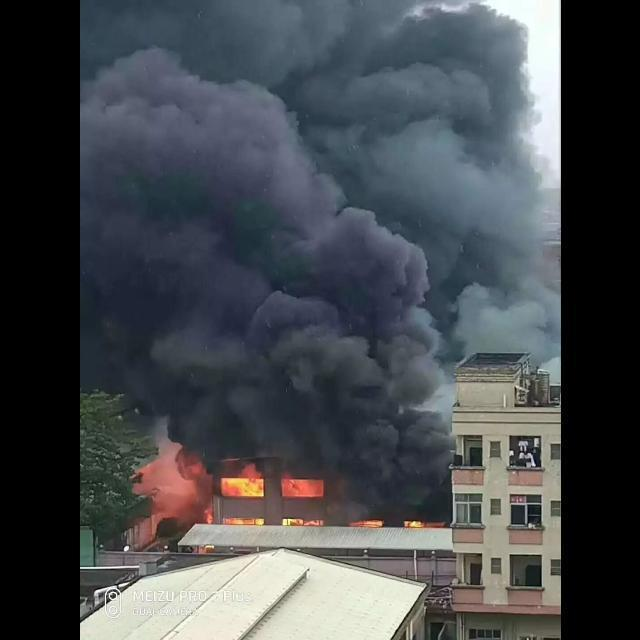Fire: (280, 478, 324, 498), (218, 479, 264, 497), (280, 517, 324, 527), (222, 519, 262, 527), (354, 519, 384, 529), (401, 518, 423, 528)
Smoke: (80, 0, 561, 472)
